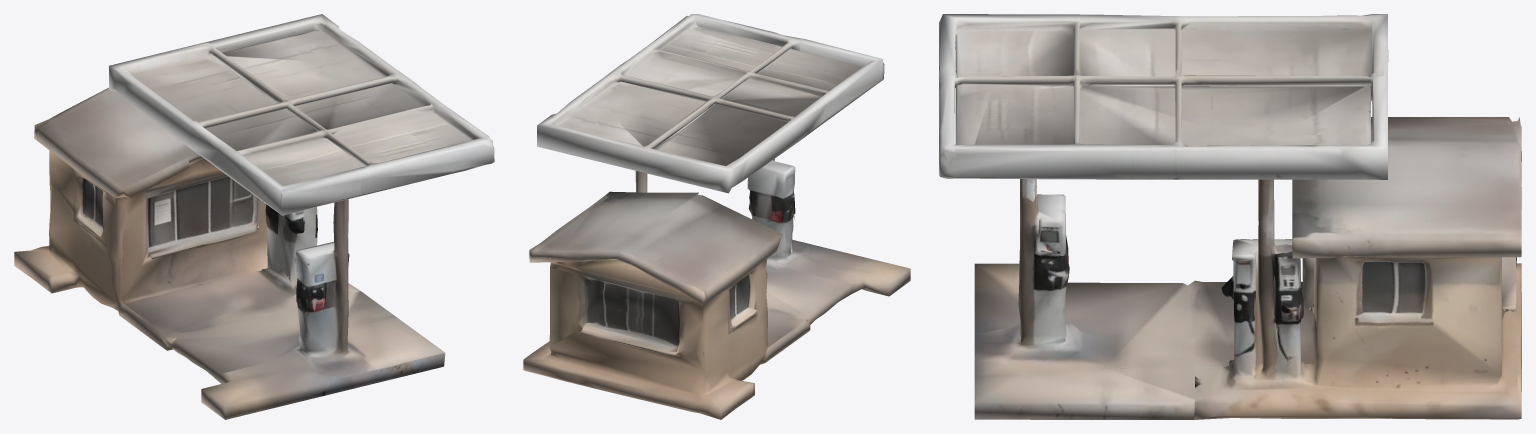
Rendered from h_gas.glb.
3 views of the same model, side by side, from view 1: azimuth 30°, elevation 25°; view 2: azimuth 150°, elevation 25°; view 3: azimuth 270°, elevation 25° (orthographic). The views are drawn at different scales.
Visible parts, largest first — view 1: model; view 2: model; view 3: model.
Part boxes in pixels (bbox=[...]): model: bbox=[14, 14, 494, 419]; model: bbox=[523, 14, 910, 419]; model: bbox=[939, 14, 1521, 419].
Size of the model in its own units: 1.25 by 1.06 by 1.9.
1 material, 1 textured.
